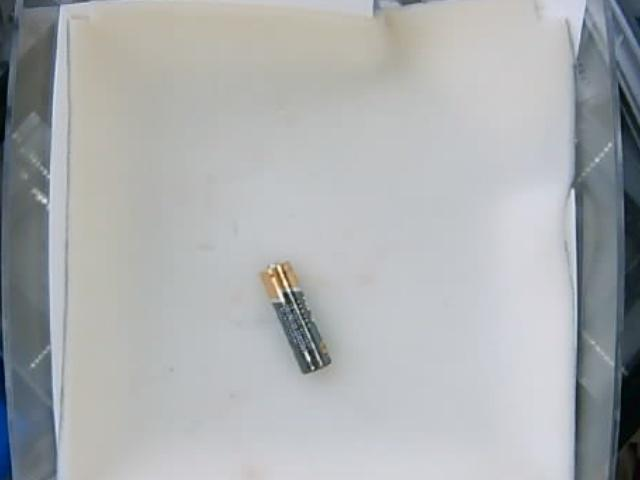Battery: (262, 262, 330, 373)
